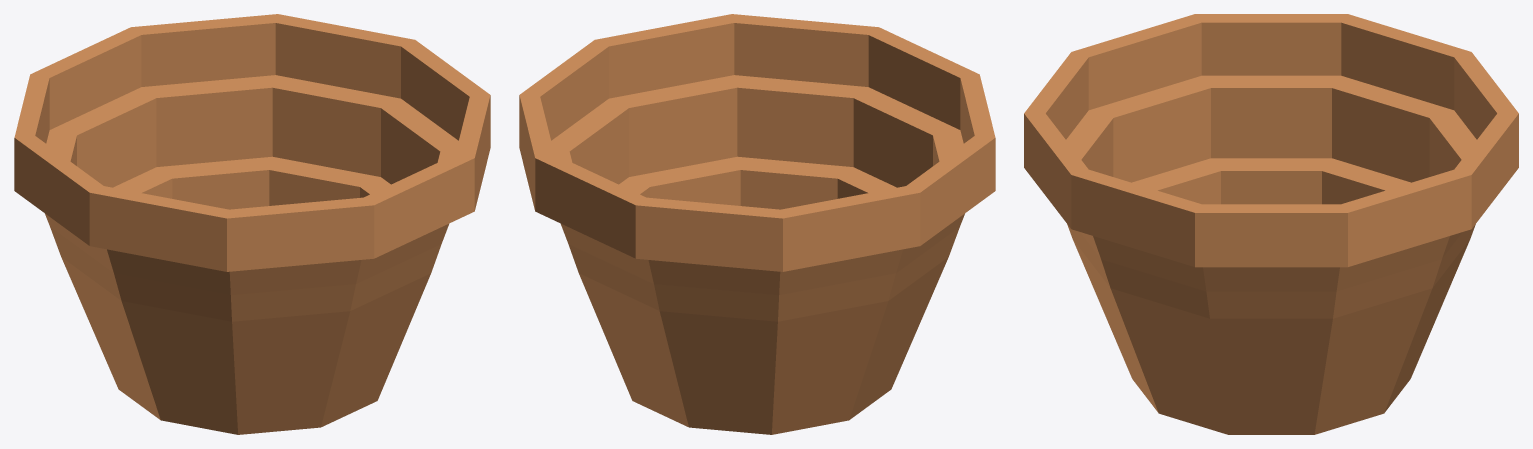
File: ENV_Pot01_Placeholder02.fbx
The picture shows the model from 3 angles, left to right: view 1: azimuth 30°, elevation 25°; view 2: azimuth 150°, elevation 25°; view 3: azimuth 270°, elevation 25°; orthographic projection.
Visible parts, largest first — view 1: Circle.006; view 2: Circle.006; view 3: Circle.006.
Boxes of the visible parts, bbox=[...] form: Circle.006: bbox=[14, 14, 490, 434]; Circle.006: bbox=[519, 14, 995, 434]; Circle.006: bbox=[1024, 14, 1518, 434].
Size of the model in its own units: 68.74 by 65.38 by 40.7.
